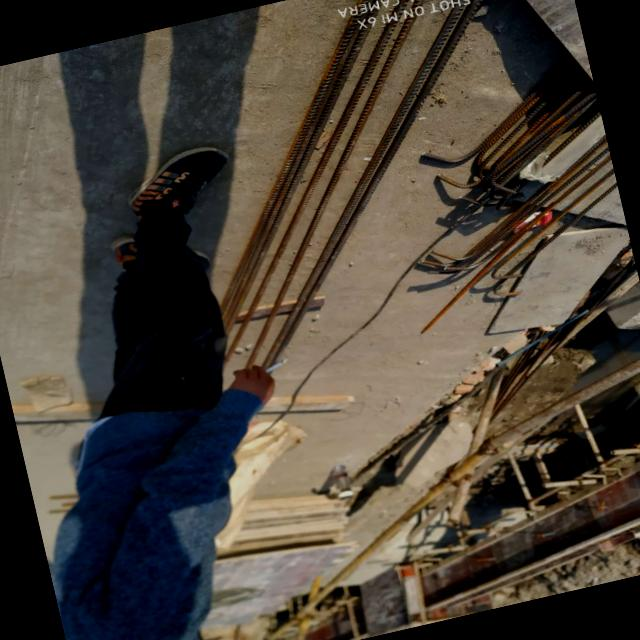smoke: (258, 356, 292, 377)
